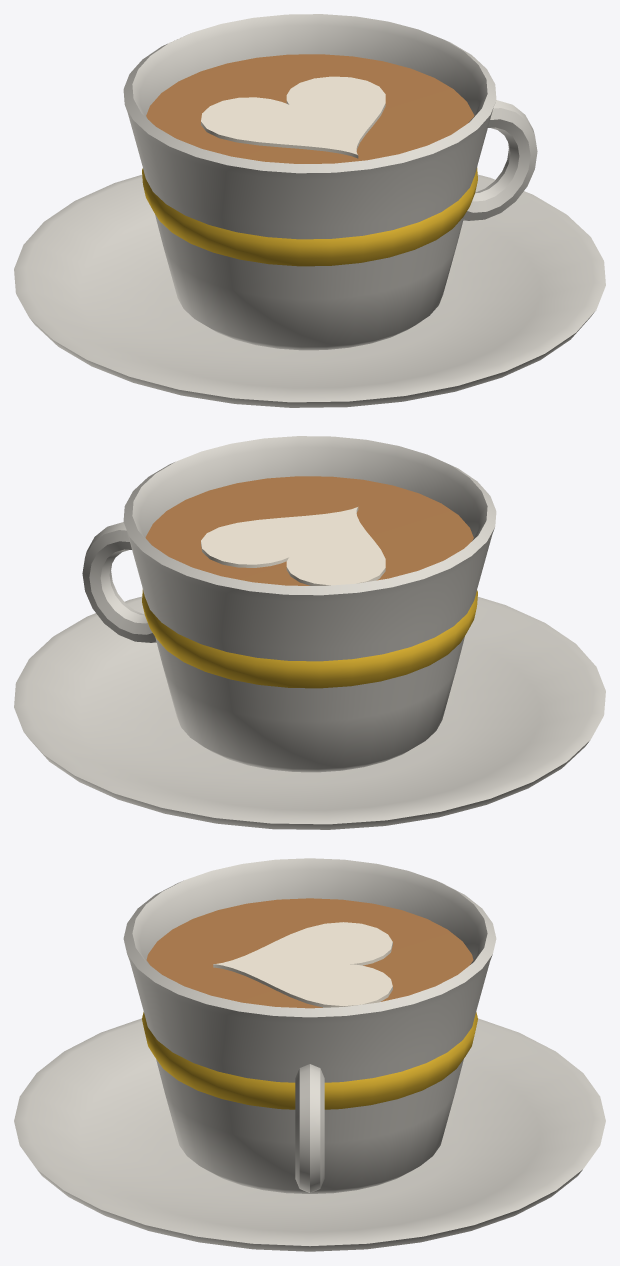
Rendered from cup_latte.gltf.
3 renders of one model, top to bottom at view 1: azimuth 30°, elevation 25°; view 2: azimuth 150°, elevation 25°; view 3: azimuth 270°, elevation 25°, orthographic.
Visible parts, largest first — view 1: cup_latte; view 2: cup_latte; view 3: cup_latte.
Part boxes in pixels (x1,y1,x2,y2): cup_latte: (14, 14, 605, 407); cup_latte: (14, 436, 605, 829); cup_latte: (14, 858, 605, 1251).
Size of the model in its own units: 1 by 0.425 by 1.
